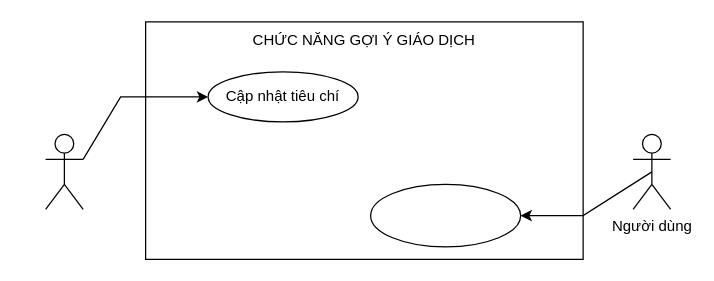
Image size: 714x281. Some labels were removed from this diagram. The shapes that lost their labels are listed below. From the top down, each one's centre as x and y in pixels, then its label:
(x=63, y=171): Quản trị viên
(x=445, y=215): Cập nhật điểm đánh giá
